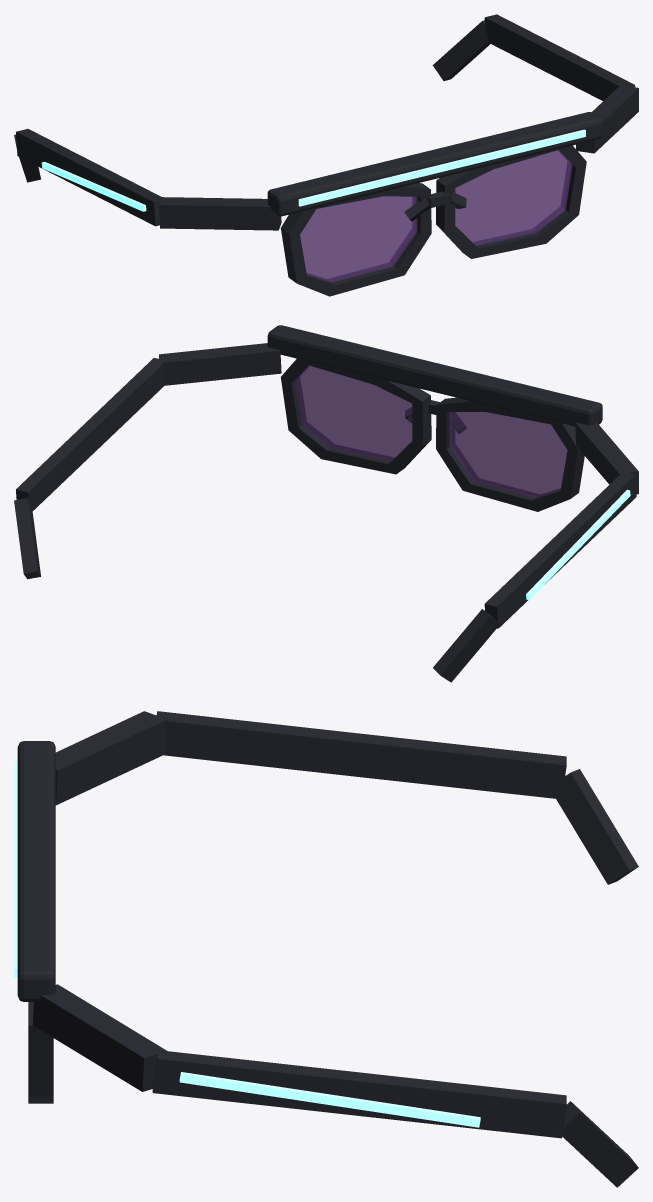
Rendered from acc_glasses_gamer_male.glb.
3 renders of one model, top to bottom at view 1: azimuth 30°, elevation 25°; view 2: azimuth 150°, elevation 25°; view 3: azimuth 270°, elevation 25°, orthographic. The views are drawn at different scales.
Parts seen in each view (by area): view 1: GlassesGamer; view 2: GlassesGamer; view 3: GlassesGamer.
Boxes of the visible parts, x1,y1,x2,y2 form: GlassesGamer: [14, 14, 638, 296]; GlassesGamer: [14, 325, 638, 682]; GlassesGamer: [14, 711, 638, 1187].
Bounding box in the file's own units: 0.1975 × 0.0466 × 0.1481.
